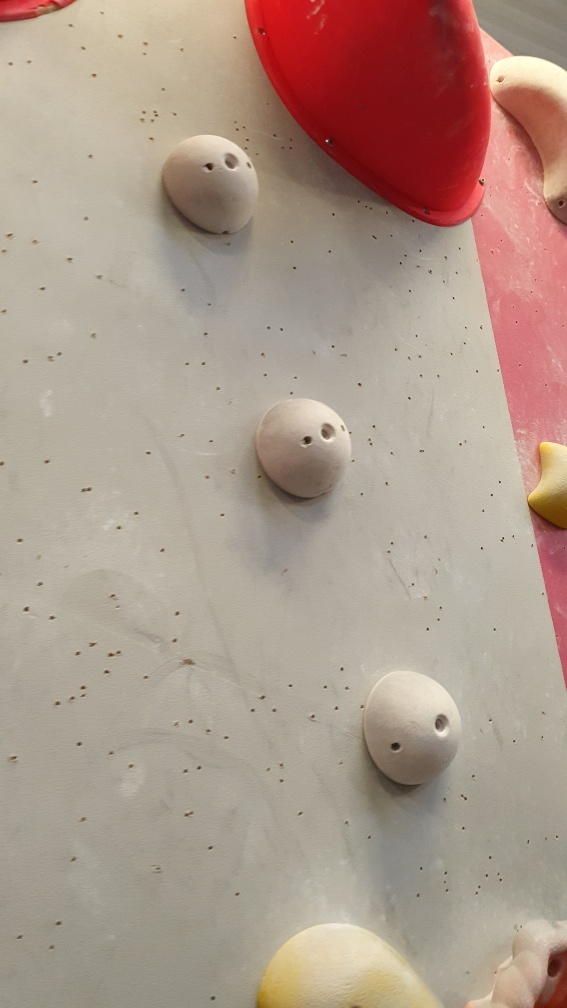Sloper: (245, 391, 356, 505), (362, 665, 457, 796), (162, 129, 259, 241)
